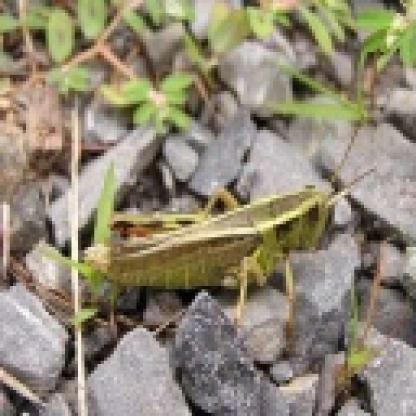grasshopper: (78, 124, 371, 324)
